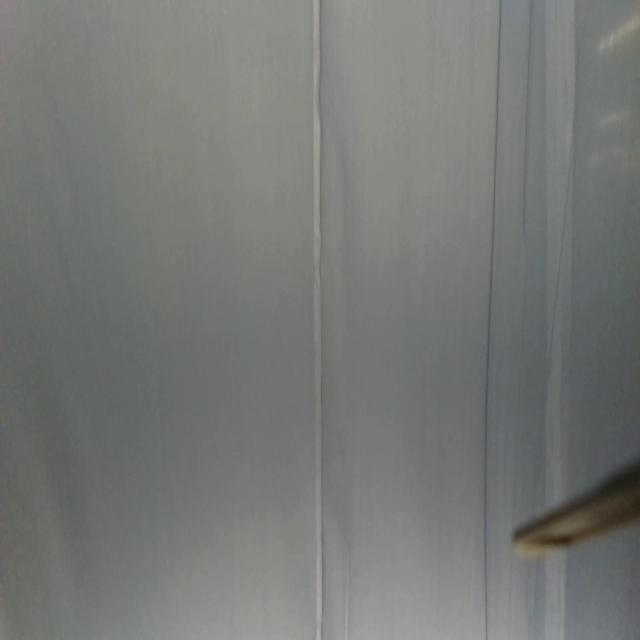crease: (481, 0, 504, 638), (313, 0, 326, 639), (521, 0, 537, 235)
